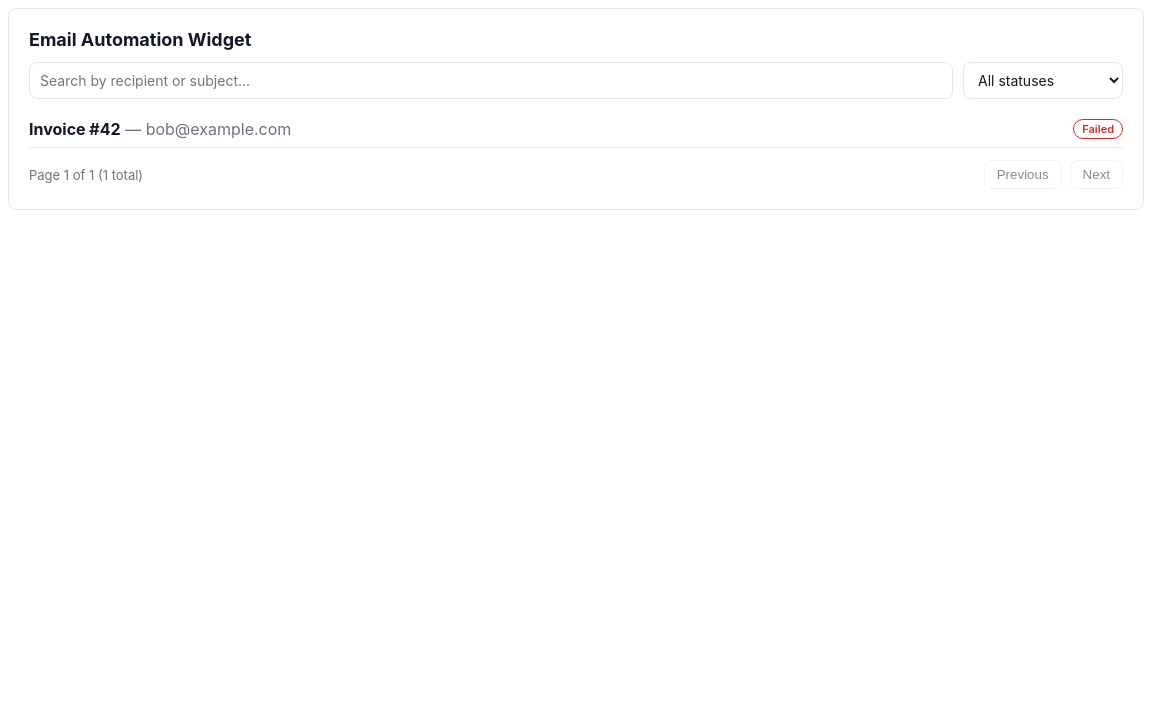
Test case: EmailAutomationWidget (logs mode) › shows the error message from a failed log entry in the detail panel
Click the text "Invoice #42" at (75, 129), box [29,119,121,139]
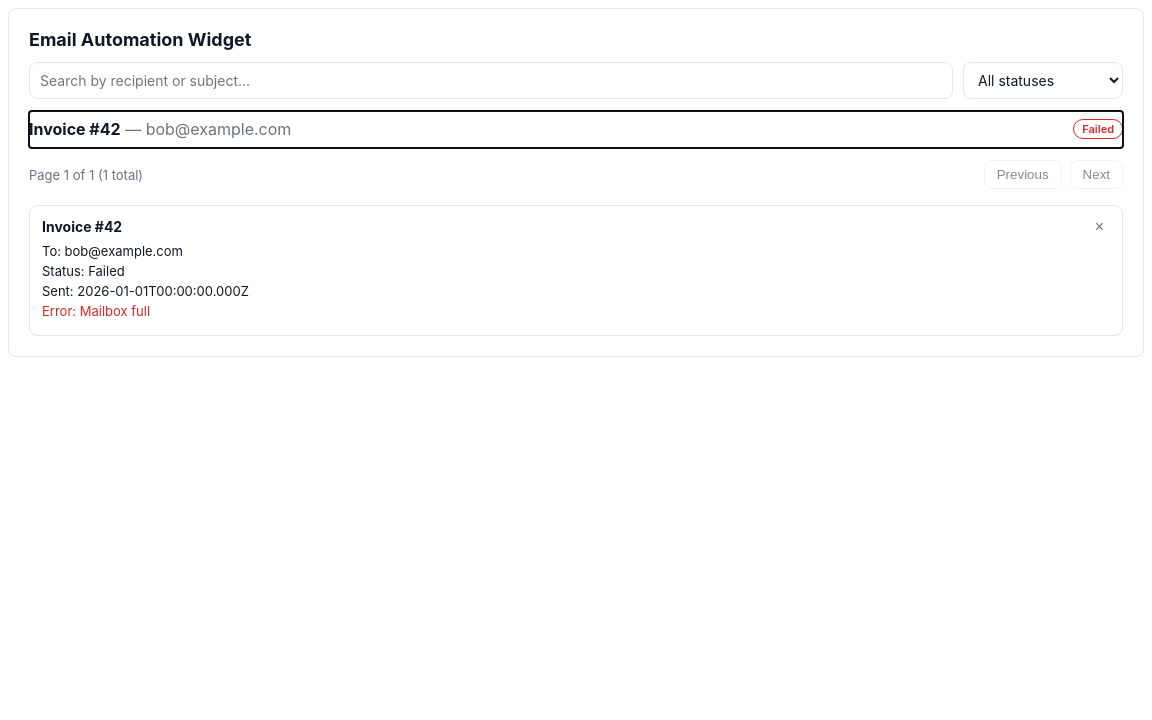
Expected: the text "Error: Mailbox full" is shown, [42,303,150,319]
